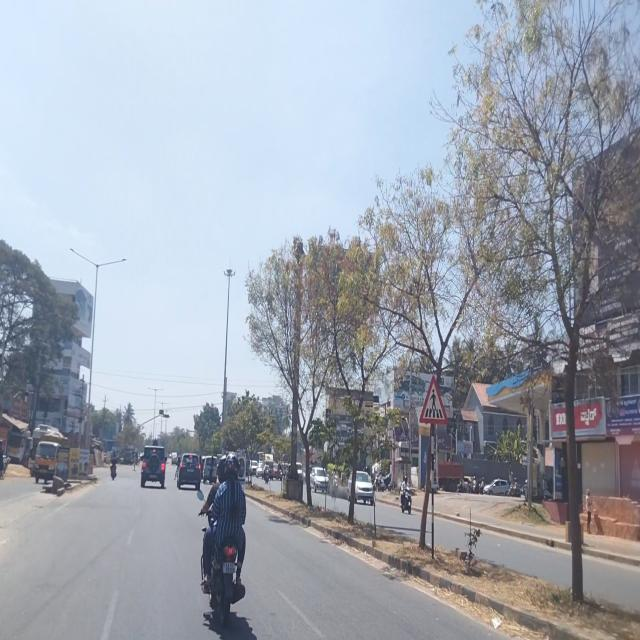bien_cam: (419, 375, 449, 425)
